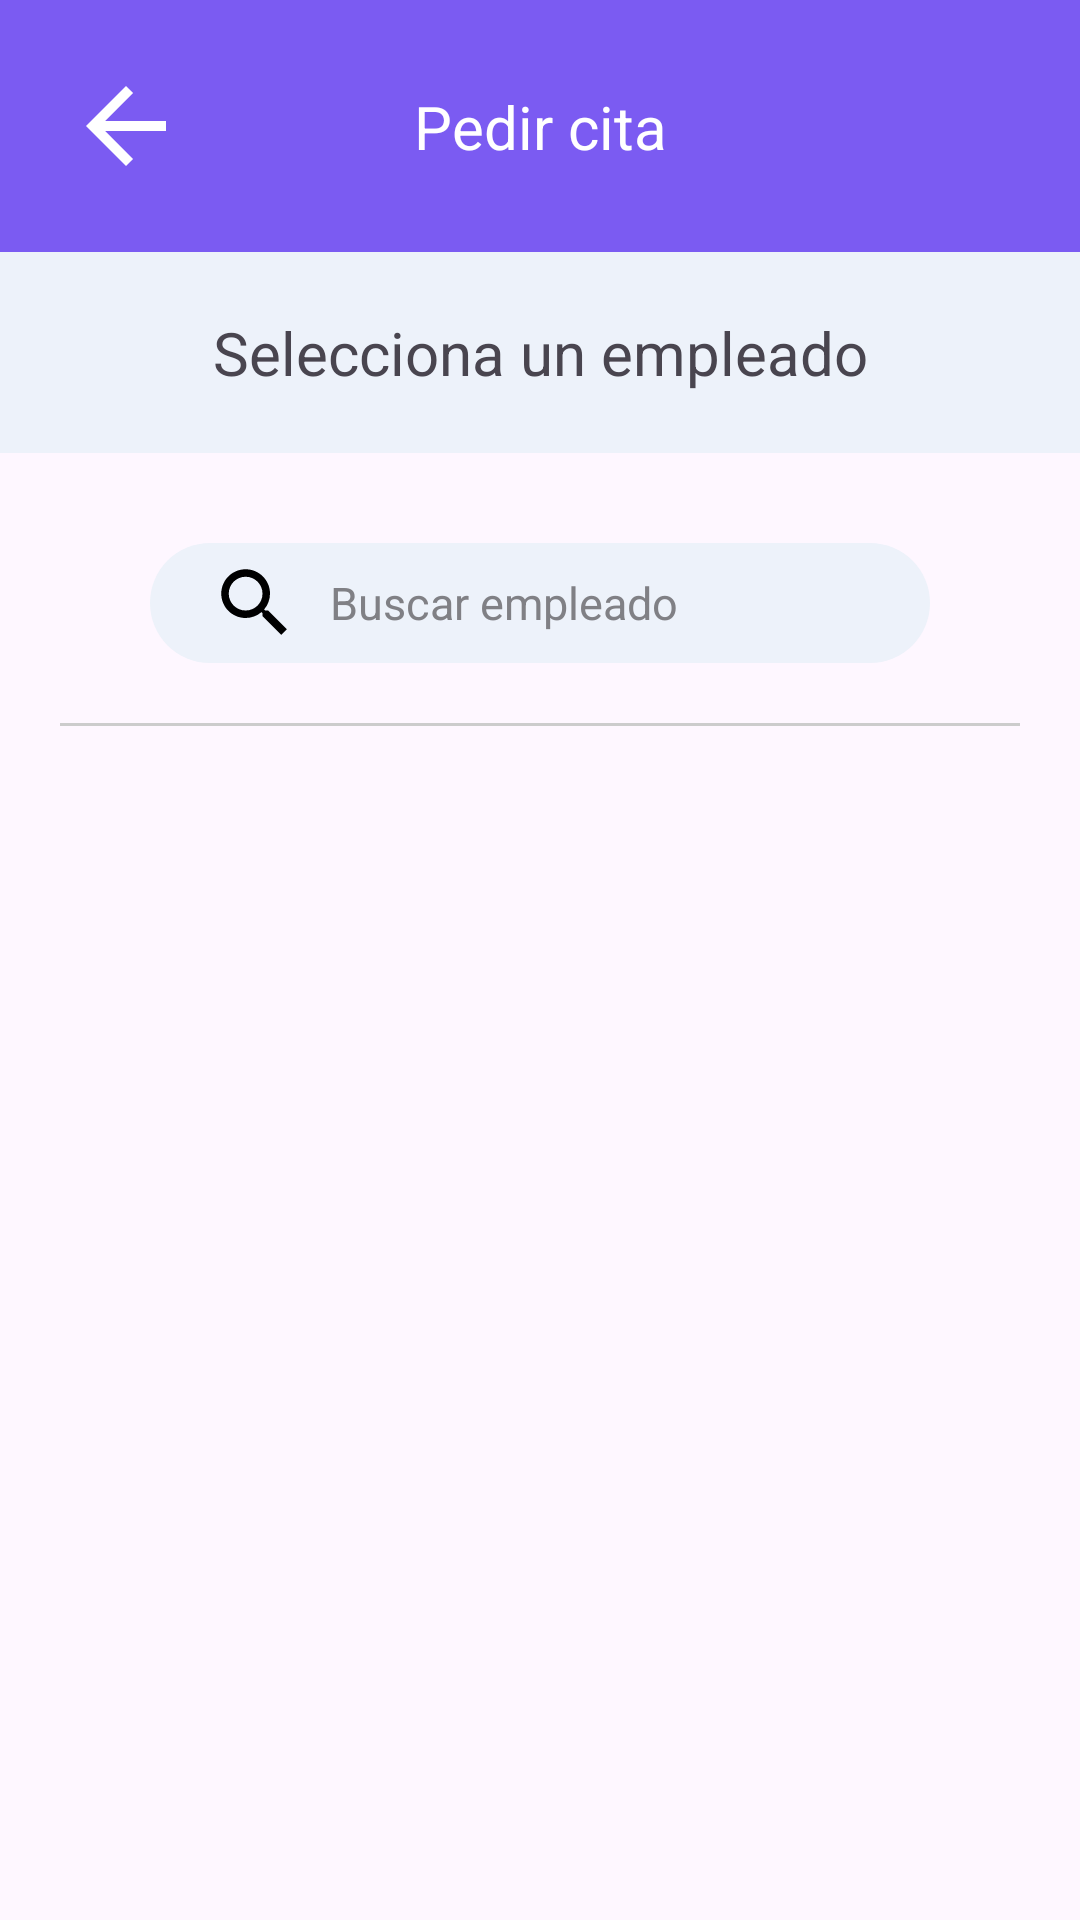

Point at icon controls on the screen. Image size 1080w x 1920h, points as [x,y].
back arrow: [126,126]
